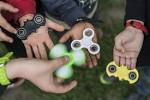fidget_kid_spinner_toys: (102, 49, 139, 91), (47, 43, 83, 81), (70, 23, 100, 52), (13, 14, 48, 35)
